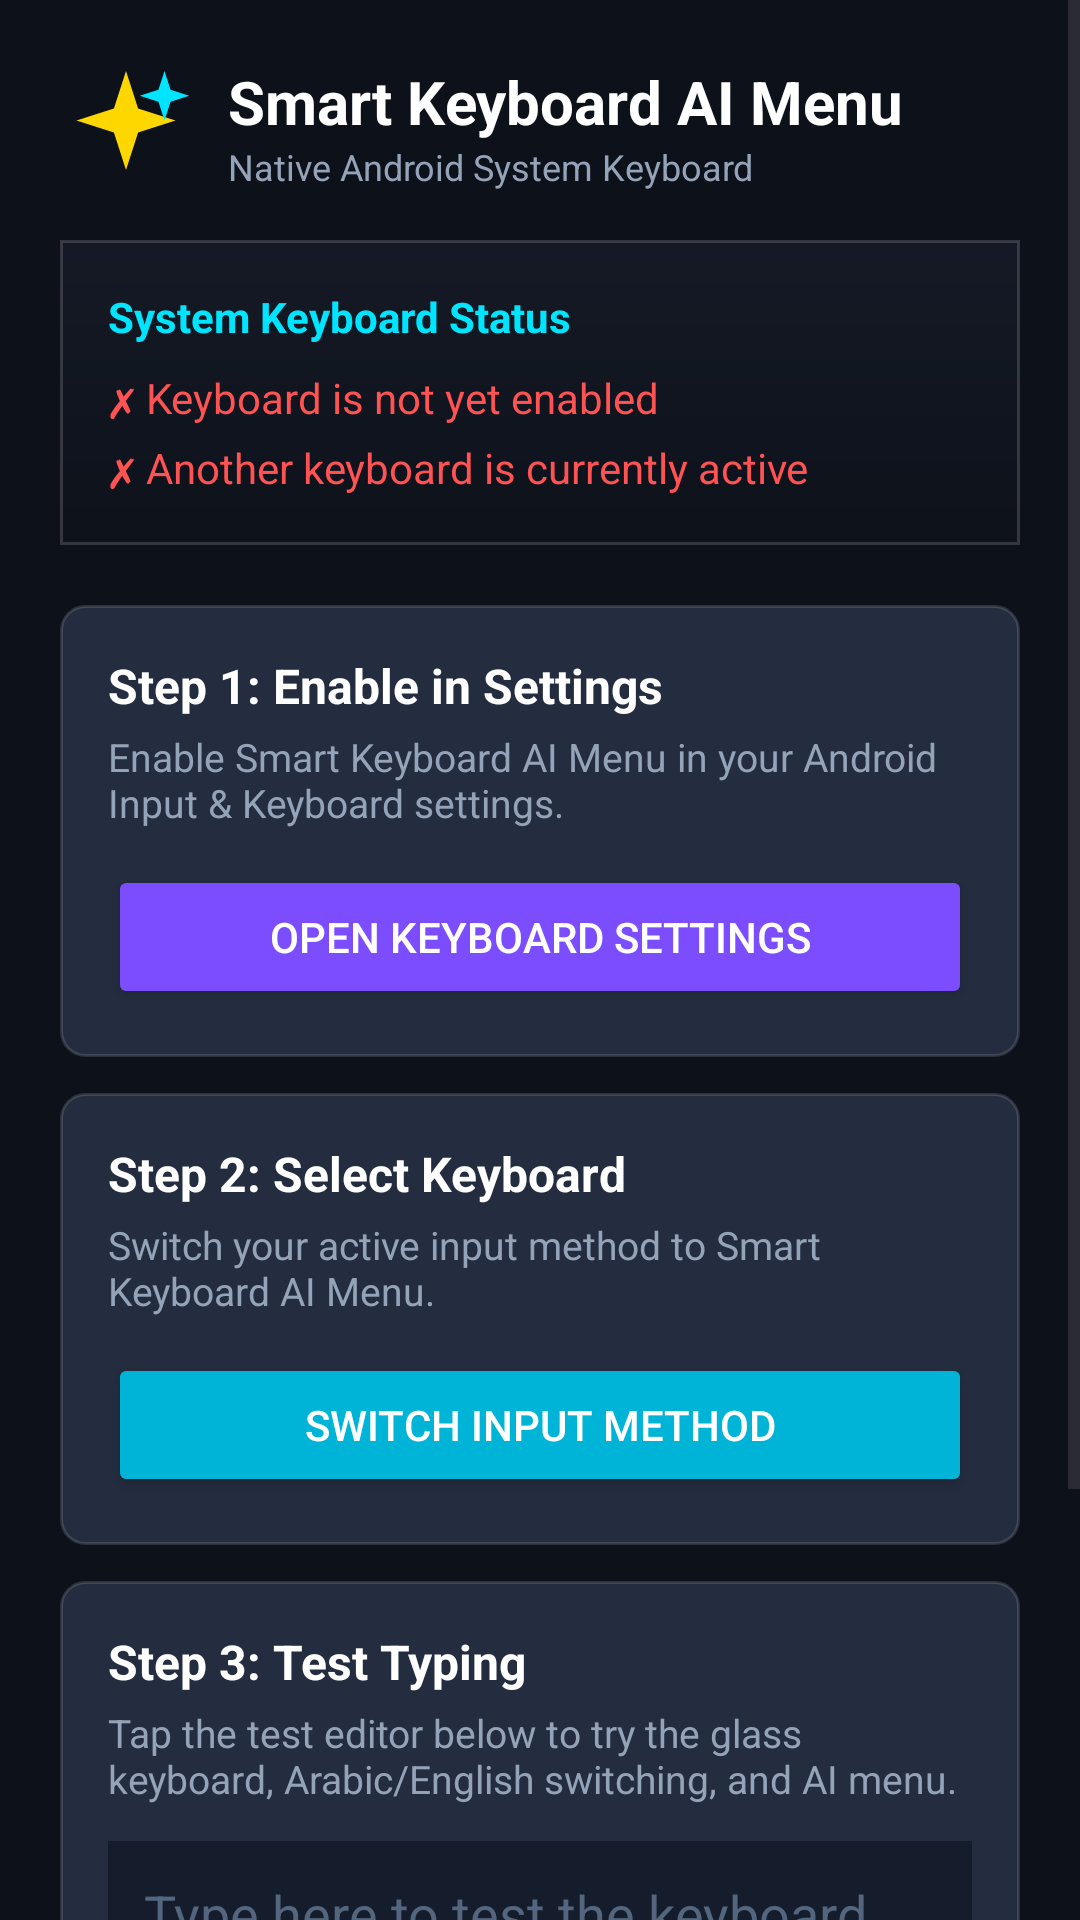

Icon bounding boxes for this 1080 x 1920 phone screenshot, format [x1, y1, x2, y2]:
ai sparkle: [77, 71, 189, 170]
